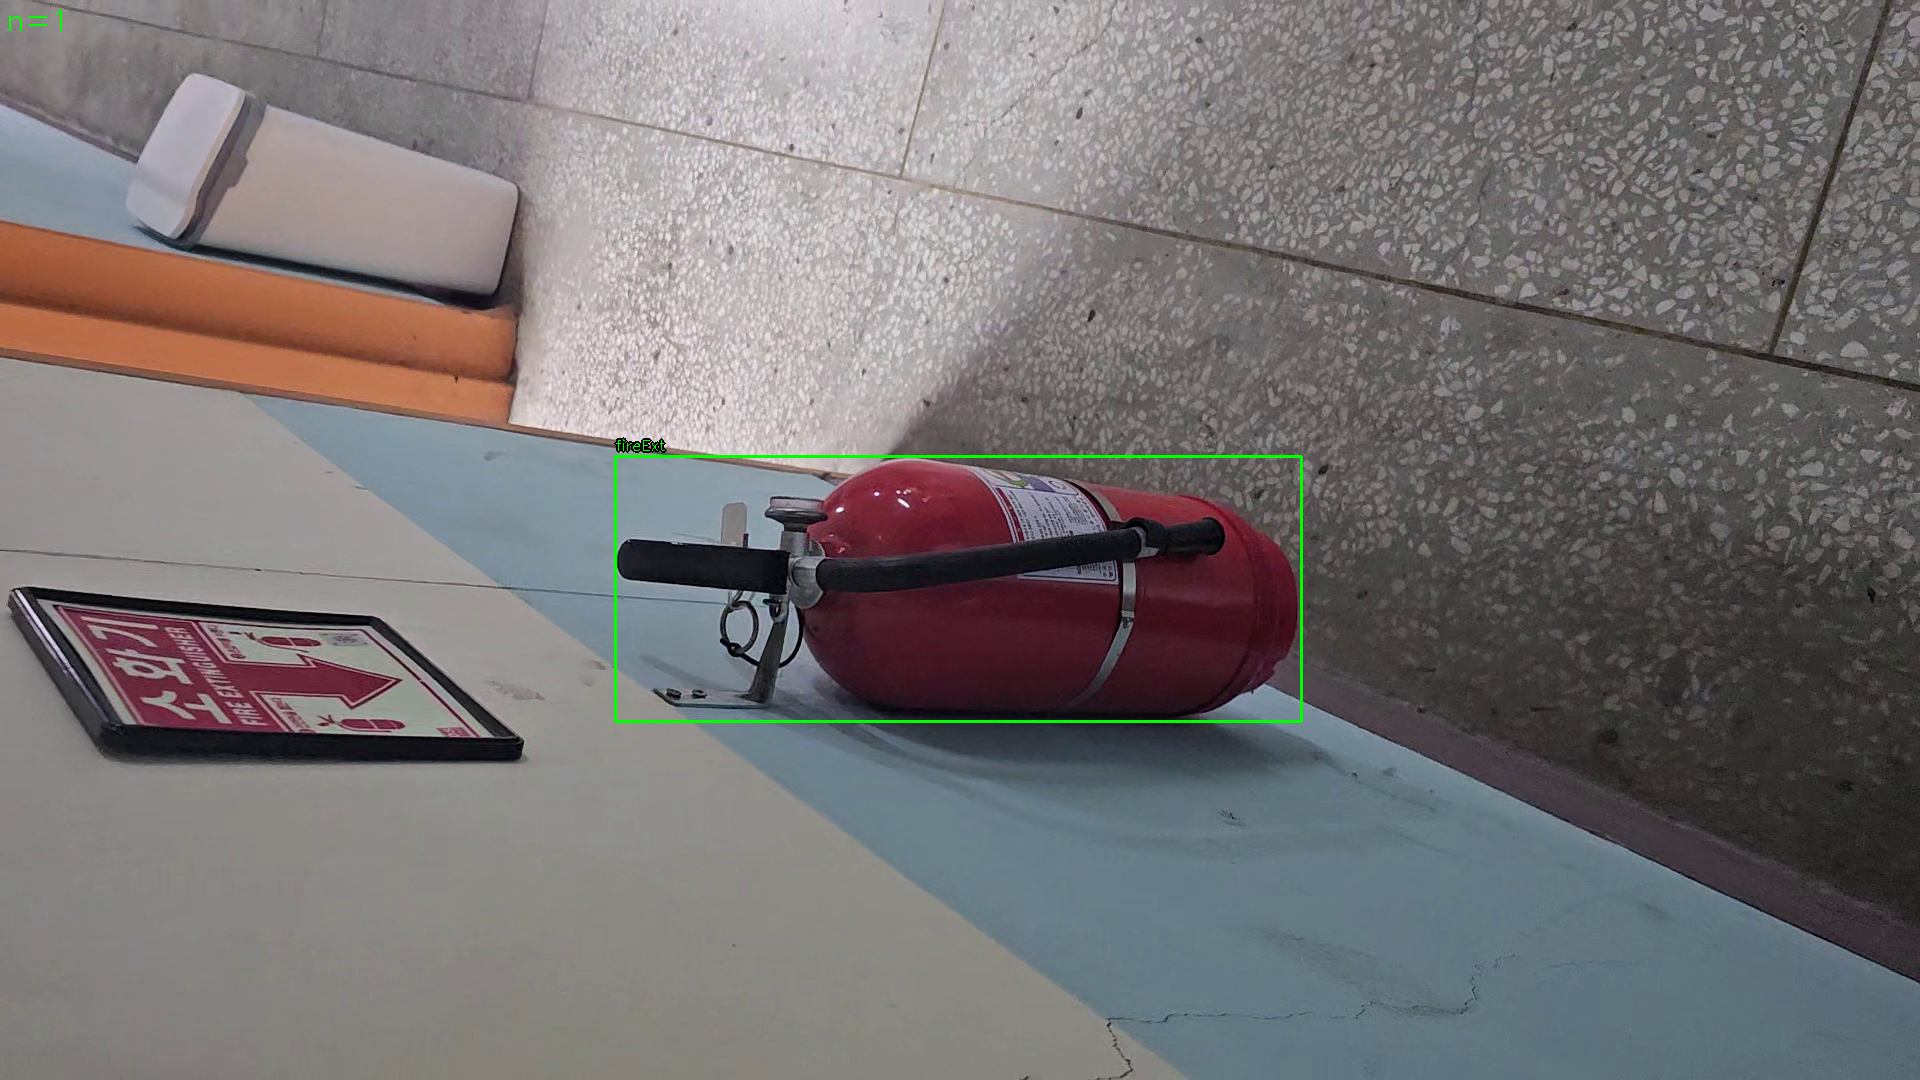lane: (615, 456, 1302, 723)
